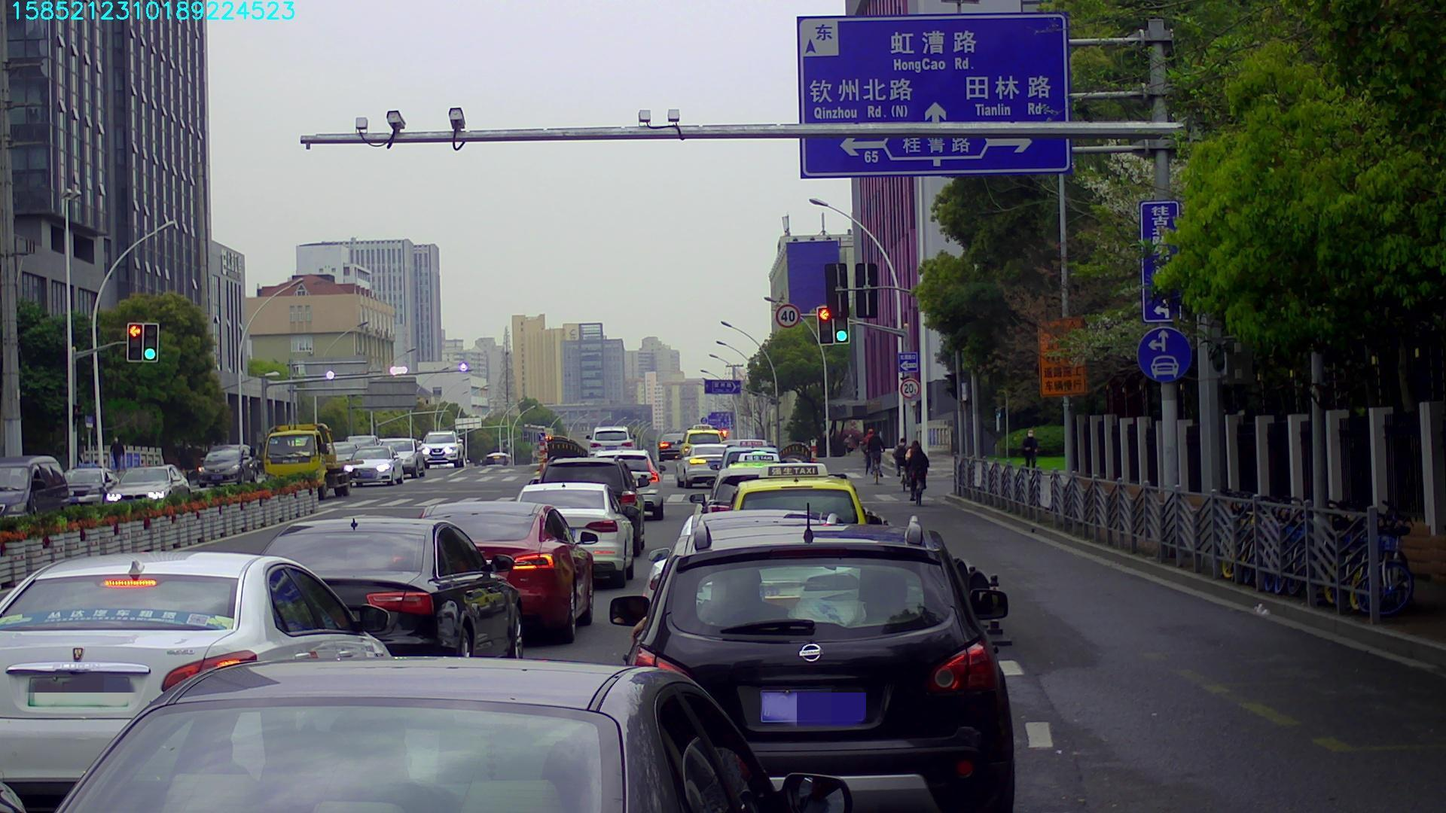green: (832, 303, 848, 343), (143, 323, 157, 361)
red: (816, 306, 834, 344), (127, 322, 142, 361)
